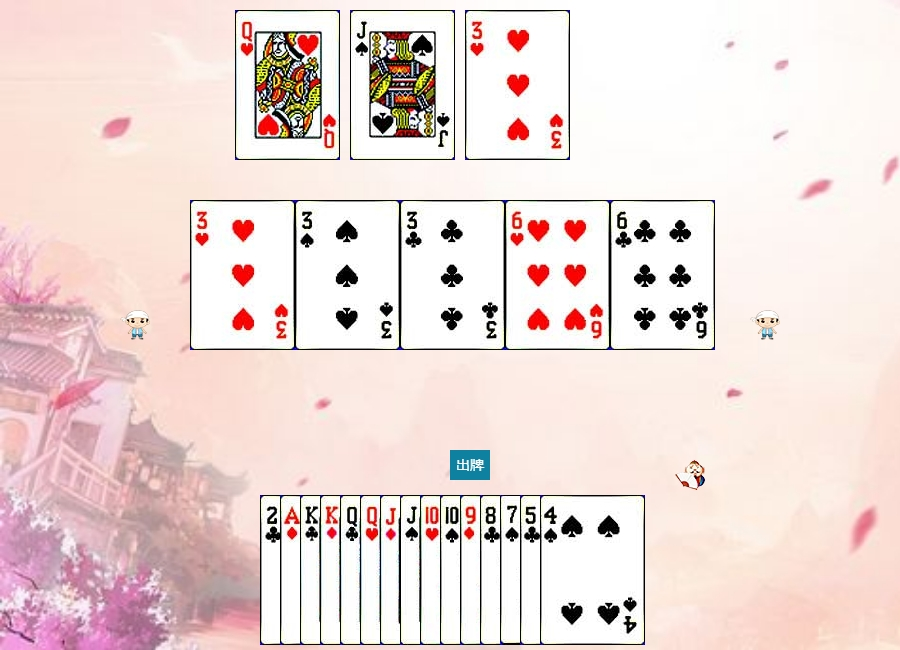10~3: (420, 495, 525, 645)
10~4: (440, 495, 545, 645)
11~1: (380, 495, 485, 645)
11~4: (350, 10, 455, 160), (400, 495, 505, 645)
12~2: (340, 495, 445, 645)
12~3: (235, 10, 340, 160), (360, 495, 465, 645)
13~1: (320, 495, 425, 645)
13~2: (300, 495, 405, 645)
14~1: (280, 495, 385, 645)
15~2: (260, 495, 365, 645)
3~2: (400, 200, 505, 350)
3~3: (465, 10, 570, 160), (190, 200, 295, 350)
3~4: (295, 200, 400, 350)
4~4: (540, 495, 645, 645)
5~2: (520, 495, 625, 645)
6~2: (610, 200, 715, 350)
6~3: (505, 200, 610, 350)
7~4: (500, 495, 605, 645)
8~2: (480, 495, 585, 645)
9~1: (460, 495, 565, 645)
